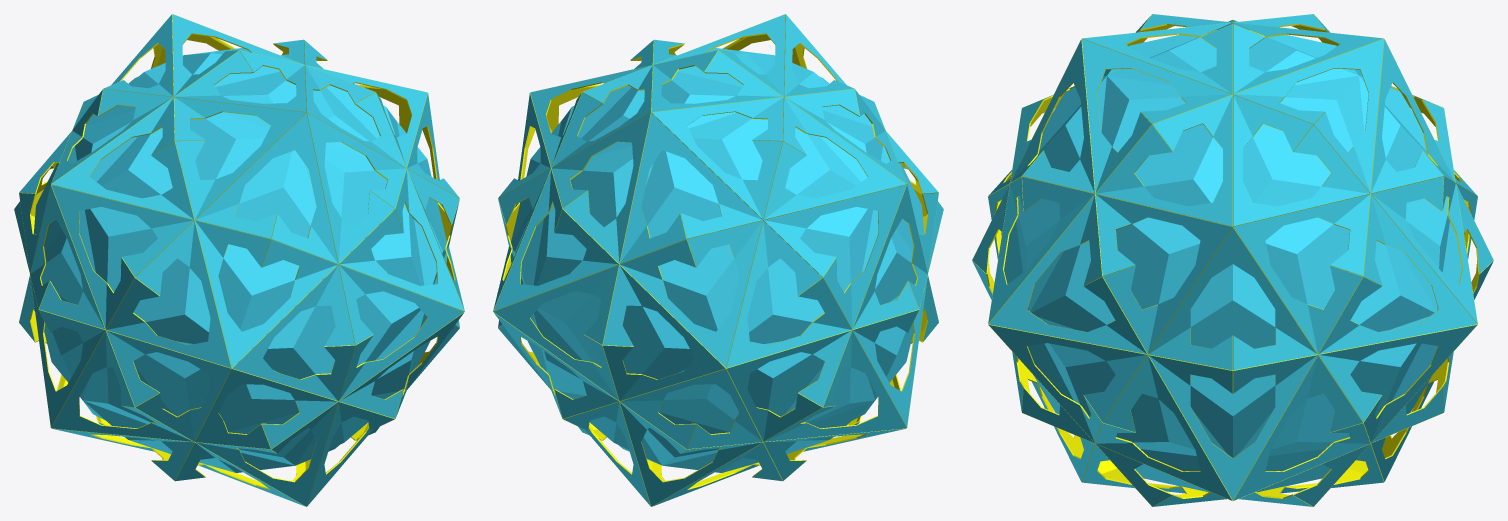
Rendered from MedialDeltoidalHexecontahedronS1.glb.
3 views of the same model, side by side, from view 1: azimuth 30°, elevation 25°; view 2: azimuth 150°, elevation 25°; view 3: azimuth 270°, elevation 25° (orthographic). The views are drawn at different scales.
Visible parts, largest first — view 1: Mesh_0004_1, Mesh_1004, Mesh_0004; view 2: Mesh_0004_1, Mesh_1004, Mesh_0004; view 3: Mesh_0004_1, Mesh_1004, Mesh_0004.
Part boxes in pixels (<box>): Mesh_0004_1: <box>14,14,464,506</box>; Mesh_1004: <box>33,48,447,472</box>; Mesh_0004: <box>14,14,464,506</box>; Mesh_0004_1: <box>493,14,943,506</box>; Mesh_1004: <box>510,48,924,472</box>; Mesh_0004: <box>493,14,943,506</box>; Mesh_0004_1: <box>972,14,1493,506</box>; Mesh_1004: <box>1001,35,1464,492</box>; Mesh_0004: <box>972,14,1493,506</box>.
Bounding box in the file's own units: 9.39 × 9.39 × 9.39.
